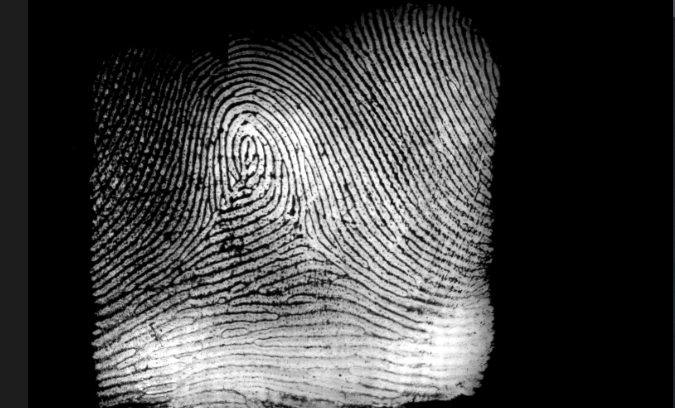deltas: (279, 211, 330, 256), (195, 190, 241, 236)
nucleo: (225, 122, 275, 172)
